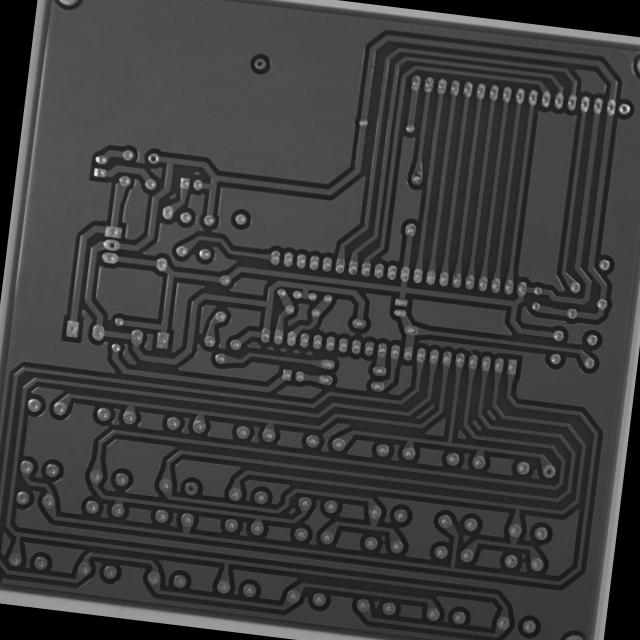missing_hole: (182, 479, 201, 498), (540, 462, 558, 480), (145, 150, 161, 166), (252, 56, 268, 71), (104, 238, 118, 252)
